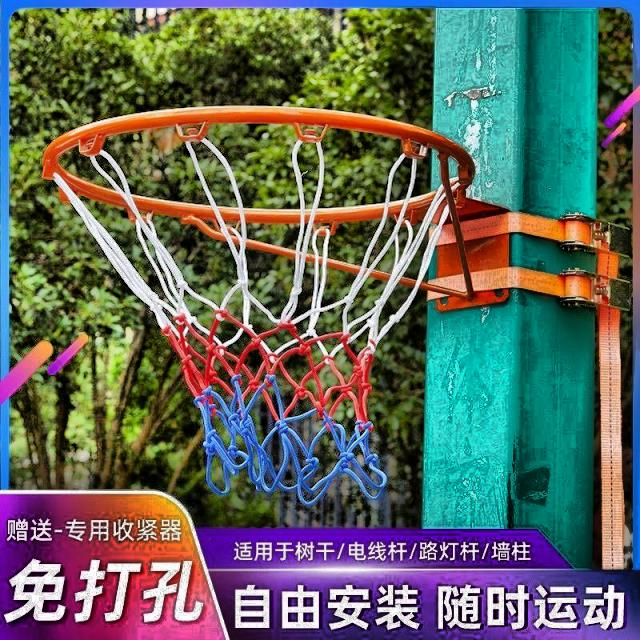rim: (42, 105, 473, 504)
